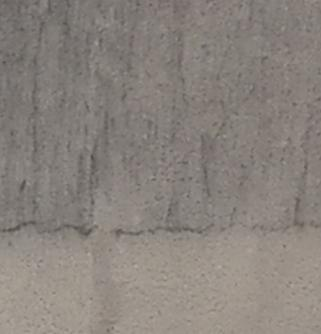fissura: (0, 136, 321, 246)
